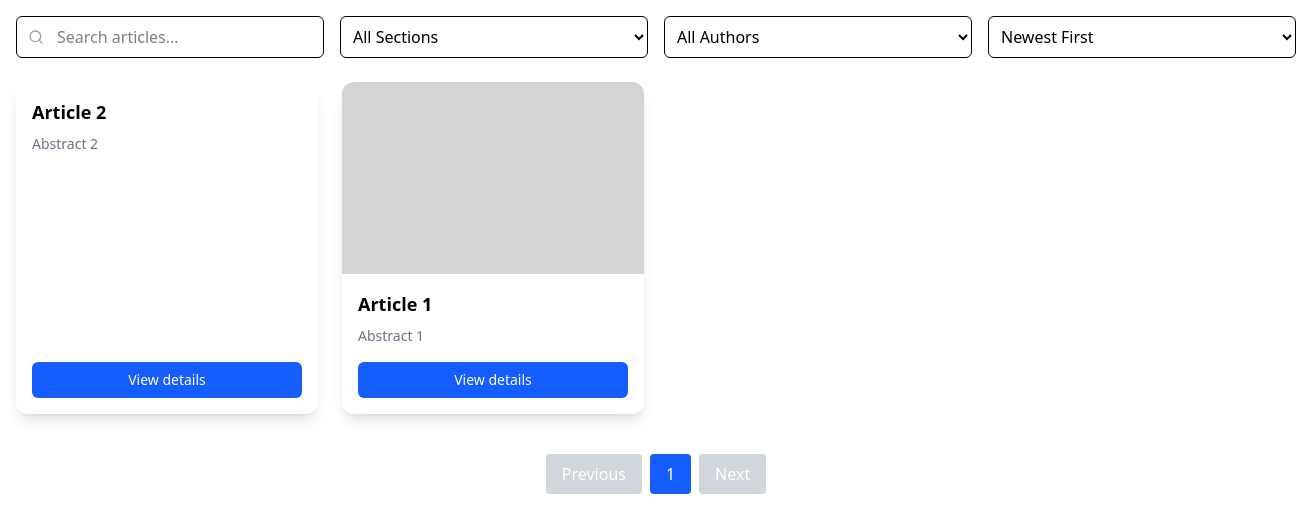
HomePage › filters articles by search term
Type "Article 1" into the field with placeholder "Search articles..." at [170, 37], box [16, 16, 324, 58]
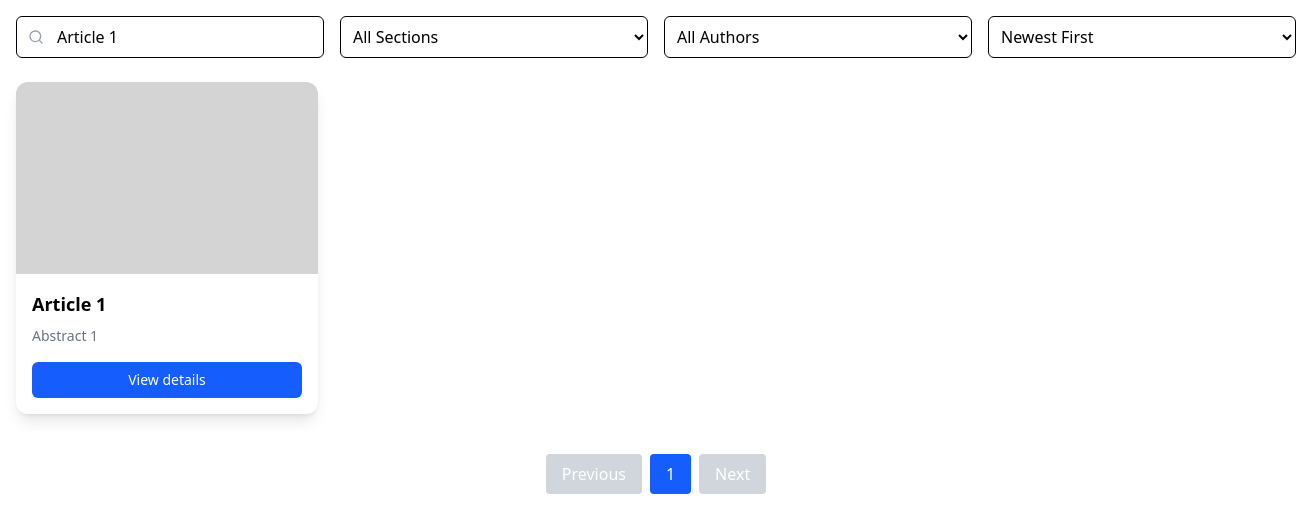
Expected: the heading "Article 1" is shown, [32, 292, 106, 316]
Result: the heading "Article 2" is gone
